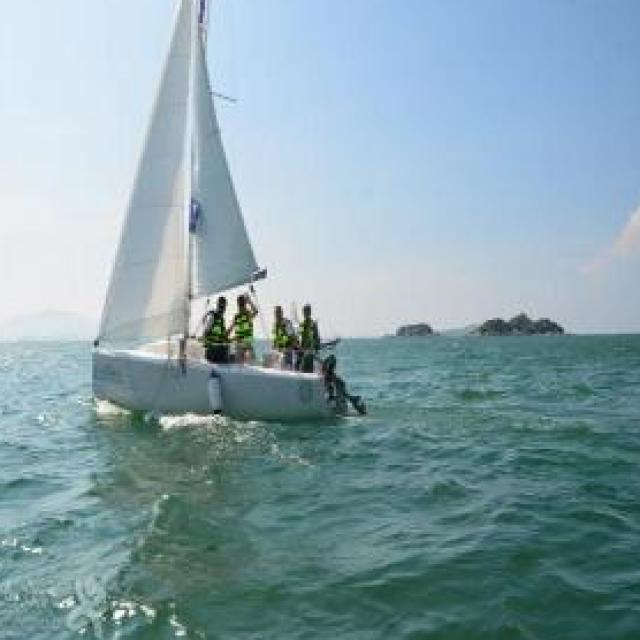sailboat: (87, 0, 370, 426)
